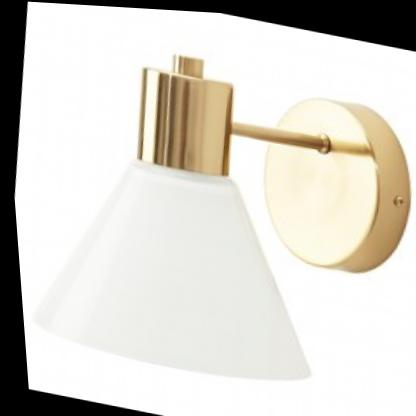Lamp: (5, 0, 416, 416)
